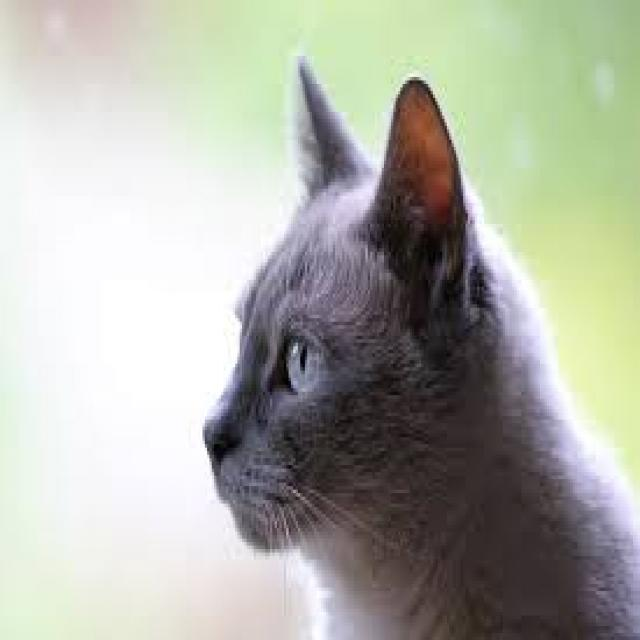Cat: (198, 47, 638, 638)
